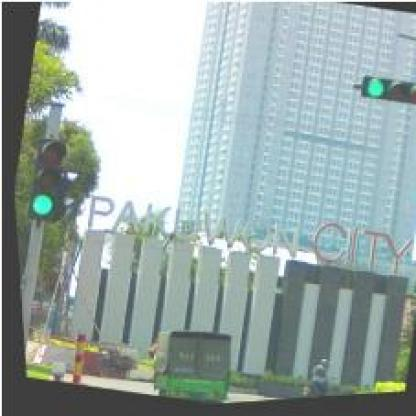green: (17, 133, 64, 223), (358, 74, 415, 113)
